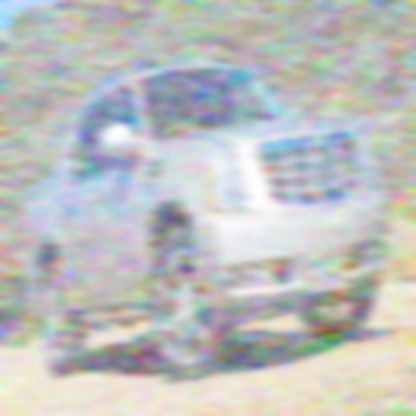Vehicle: (9, 32, 401, 410)
